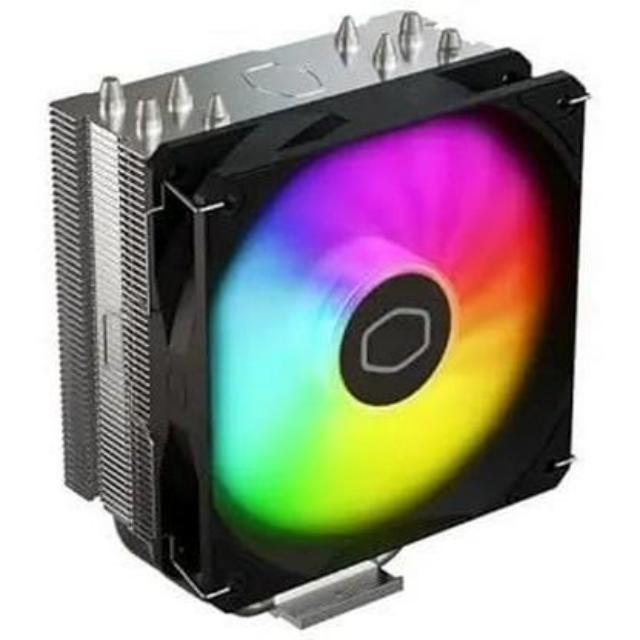CPU_Fan: (50, 9, 575, 628)
